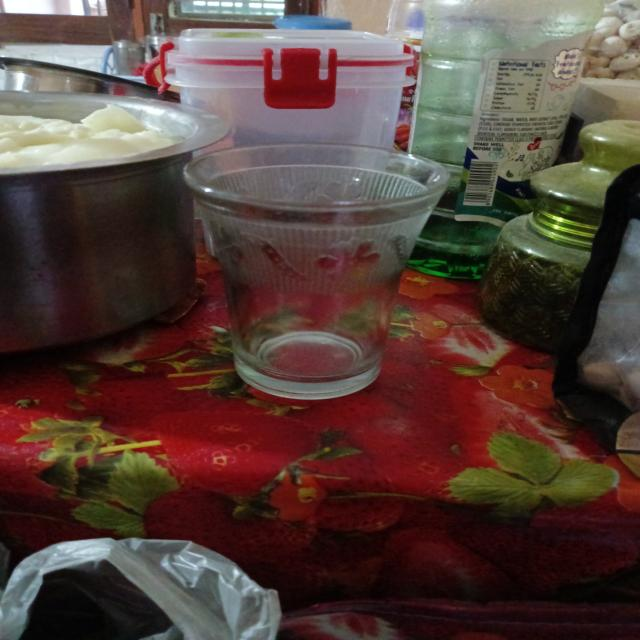Glass: (179, 140, 452, 404)
